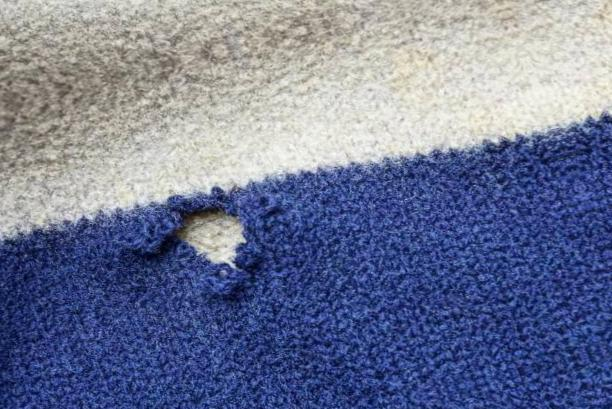hole: (164, 202, 257, 274)
